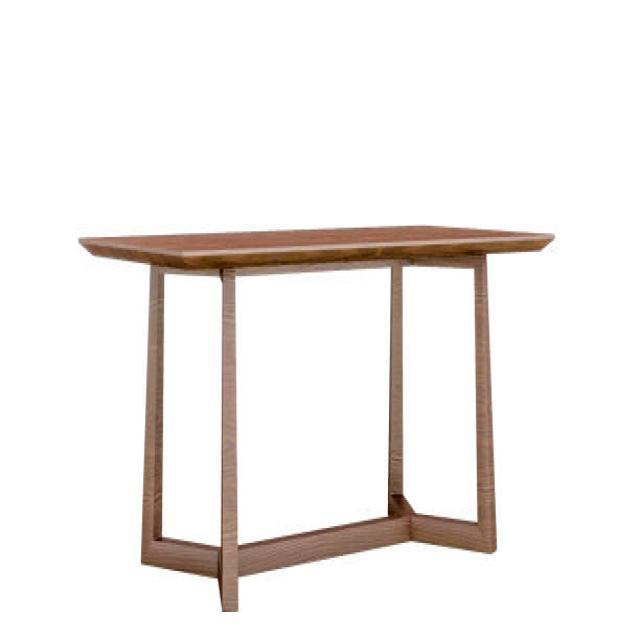table: (78, 224, 556, 610)
